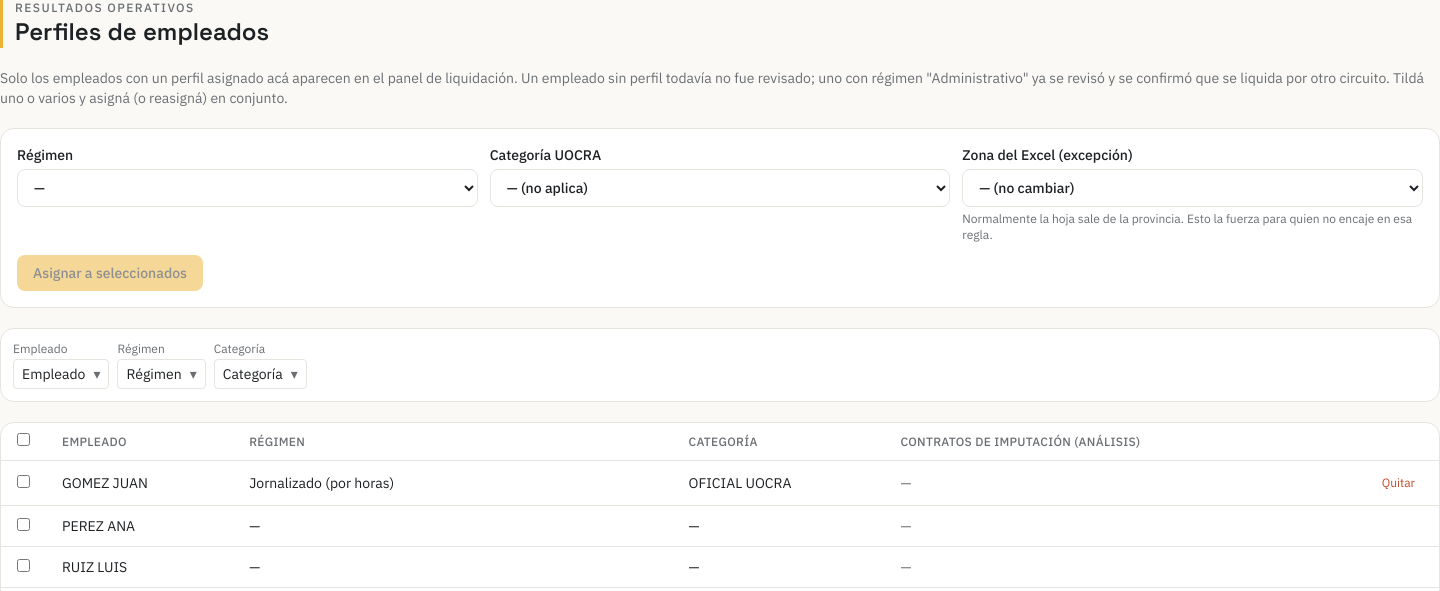
PerfilesLiquidacionPage › el checkbox "Permite horas extra" solo aparece con régimen Mensualizado (ADR-017)
Check: the text "Permite horas extra" is not shown
Click the checkbox named "Seleccionar PEREZ ANA": (24, 524) [17,518,30,531]
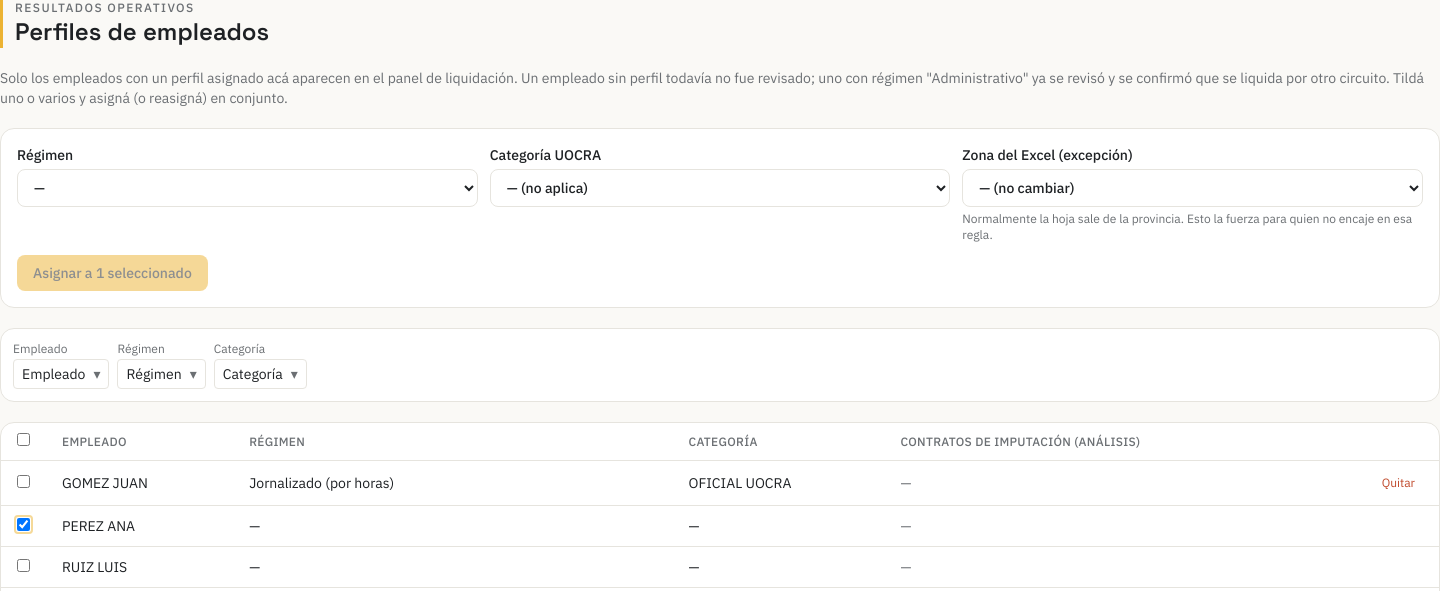
Select "Mensualizado (monto fijo por quincena)" in the dropdown labelled "Régimen": (247, 188) [17,169,478,207]
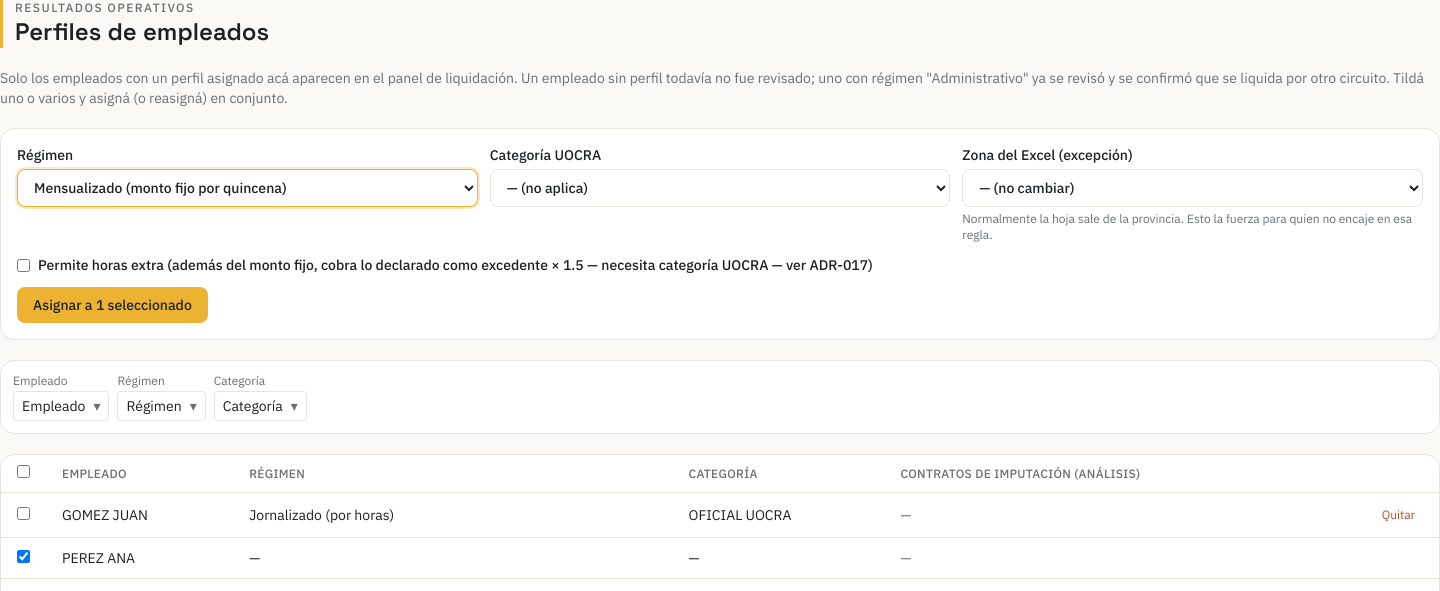
Check: the text "Permite horas extra" is shown, box [38,256,873,274]
Select "Jornalizado (por horas)" in the dropdown labelled "Régimen": (247, 188) [17,169,478,207]
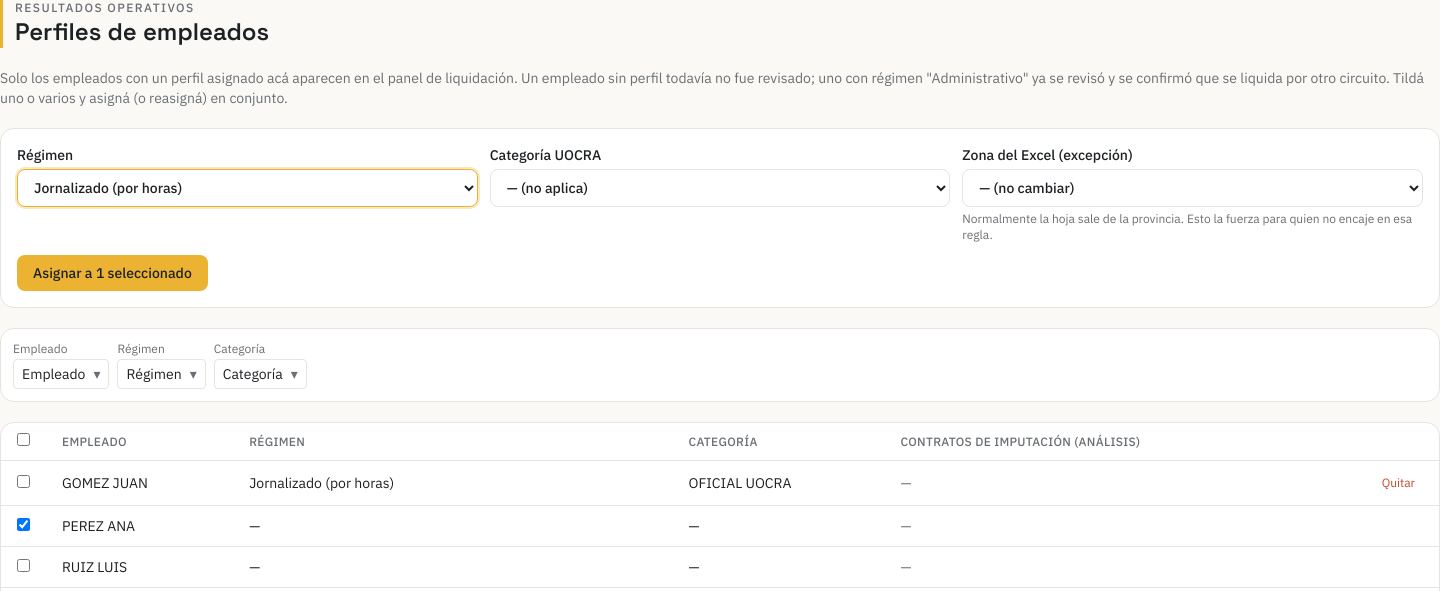
Check: the text "Permite horas extra" is gone
